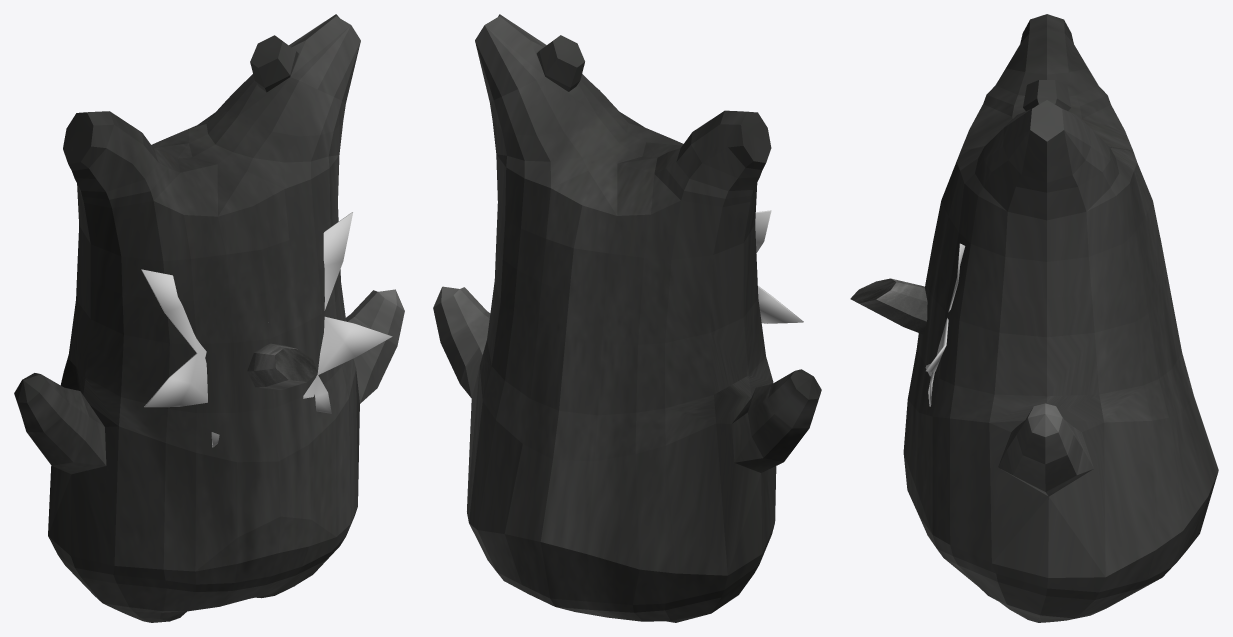
The model's file is frame_0055.obj.
3 views of the same model, side by side, from view 1: azimuth 30°, elevation 25°; view 2: azimuth 150°, elevation 25°; view 3: azimuth 270°, elevation 25° (orthographic).
Parts seen in each view (by area): view 1: korok, leaf.003_柱体.013, nose.003_柱体.011; view 2: korok, leaf.003_柱体.013; view 3: korok, nose.003_柱体.011, leaf.003_柱体.013.
Boxes of the visible parts, x1=… form: korok: x1=14, y1=14, x2=404, y2=622; leaf.003_柱体.013: x1=141, y1=212, x2=392, y2=447; nose.003_柱体.011: x1=247, y1=343, x2=317, y2=390; korok: x1=433, y1=14, x2=821, y2=622; leaf.003_柱体.013: x1=755, y1=210, x2=803, y2=323; korok: x1=903, y1=14, x2=1218, y2=622; nose.003_柱体.011: x1=850, y1=278, x2=927, y2=334; leaf.003_柱体.013: x1=925, y1=243, x2=965, y2=406.
Size of the model in its own units: 1.63 by 2.26 by 1.36.
